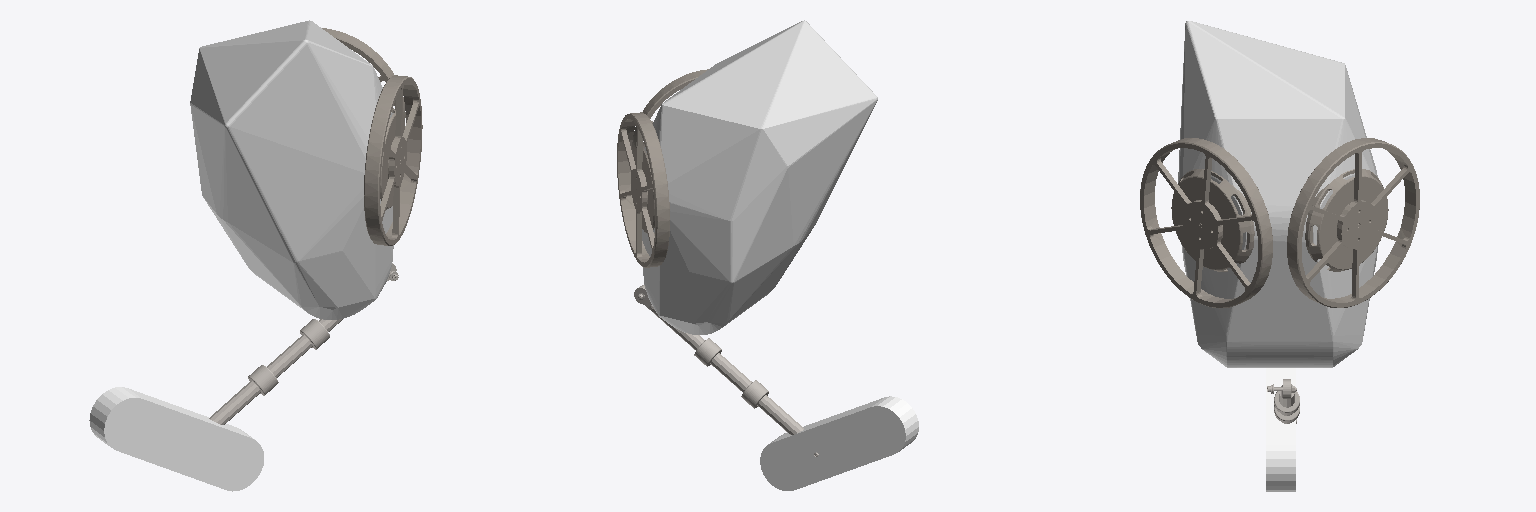
URDF robot description (hopper_rev04):
<?xml version="1.0" encoding="utf-8"?>
<!-- This URDF was automatically created by SolidWorks to URDF Exporter! Originally created by [author] ([email redacted]) 
     Commit Version: 1.5.1-0-g916b5db  Build Version: 1.5.7152.31018
     For more information, please see http://wiki.ros.org/sw_urdf_exporter -->
<robot
  name="hopper_rev04">
  <link
    name="base_link">
    <inertial>
      <origin
        xyz="-0.00563798638598889 -0.00067643856951418 0.0752602219607288"
        rpy="0 0 0" />
      <mass
        value="5.53646103481408" />
      <inertia
        ixx="0.00384290238676785"
        ixy="-4.19687319926848E-06"
        ixz="-6.20192772302655E-05"
        iyy="0.00563810128590434"
        iyz="5.31122977745691E-06"
        izz="0.00416003236316103" />
    </inertial>
    <visual>
      <origin
        xyz="0 0 0"
        rpy="0 0 0" />
      <geometry>
        <mesh
          filename="package://hopper_rev04/meshes/base_link.STL" />
      </geometry>
      <material
        name="">
        <color
          rgba="0.898039215686275 0.898039215686275 0.898039215686275 1" />
      </material>
    </visual>
    <collision>
      <origin
        xyz="0 0 0"
        rpy="0 0 0" />
      <geometry>
        <mesh
          filename="package://hopper_rev04/meshes/base_link.STL" />
      </geometry>
    </collision>
  </link>
  <link
    name="Link 0">
    <inertial>
      <origin
        xyz="0.012185125524421 0.0174262909662814 0.00112690524565407"
        rpy="0 0 0" />
      <mass
        value="0.256385541441528" />
      <inertia
        ixx="3.84650063102082E-05"
        ixy="1.53797848955375E-05"
        ixz="-8.48318848133077E-06"
        iyy="0.000172633746370829"
        iyz="1.08260082805317E-06"
        izz="0.00014882244480027" />
    </inertial>
    <visual>
      <origin
        xyz="0 0 0"
        rpy="0 0 0" />
      <geometry>
        <mesh
          filename="package://hopper_rev04/meshes/Link 0.STL" />
      </geometry>
      <material
        name="">
        <color
          rgba="0.898039215686275 0.898039215686275 0.898039215686275 1" />
      </material>
    </visual>
    <collision>
      <origin
        xyz="0 0 0"
        rpy="0 0 0" />
      <geometry>
        <mesh
          filename="package://hopper_rev04/meshes/Link 0.STL" />
      </geometry>
    </collision>
  </link>
  <joint
    name="Joint 0"
    type="revolute">
    <origin
      xyz="0 0 0"
      rpy="0 0.523598775599716 0" />
    <parent
      link="base_link" />
    <child
      link="Link 0" />
    <axis
      xyz="0 -1 0" />
    <limit
      lower="-3.14"
      upper="3.14"
      effort="0"
      velocity="0" />
  </joint>
  <link
    name="Link 1">
    <inertial>
      <origin
        xyz="0.133179166486321 0.00589603896195737 -1.77505057874505E-09"
        rpy="0 0 0" />
      <mass
        value="0.0631106253440014" />
      <inertia
        ixx="2.55536557854724E-06"
        ixy="6.97717913604158E-12"
        ixz="-1.43600164400608E-12"
        iyy="0.000104301672904657"
        iyz="7.22908134333838E-12"
        izz="0.000104300999439092" />
    </inertial>
    <visual>
      <origin
        xyz="0 0 0"
        rpy="0 0 0" />
      <geometry>
        <mesh
          filename="package://hopper_rev04/meshes/Link 1.STL" />
      </geometry>
      <material
        name="">
        <color
          rgba="0.776470588235294 0.756862745098039 0.737254901960784 1" />
      </material>
    </visual>
    <collision>
      <origin
        xyz="0 0 0"
        rpy="0 0 0" />
      <geometry>
        <mesh
          filename="package://hopper_rev04/meshes/Link 1.STL" />
      </geometry>
    </collision>
  </link>
  <joint
    name="Joint 1"
    type="revolute">
    <origin
      xyz="0.1 0 0"
      rpy="3.14159265358979 1.0768315178335 3.14159265358979" />
    <parent
      link="Link 0" />
    <child
      link="Link 1" />
    <axis
      xyz="0 -1 0" />
    <limit
      lower="-0.7597"
      upper="1.8295"
      effort="0"
      velocity="0" />
  </joint>
  <link
    name="Link 2">
    <inertial>
      <origin
        xyz="0.038903229236662 -0.0175829656415458 -0.000627148515337451"
        rpy="0 0 0" />
      <mass
        value="0.288845047026625" />
      <inertia
        ixx="3.46488303945488E-05"
        ixy="-3.25958703038219E-07"
        ixz="5.24928694319893E-06"
        iyy="0.000245584749831182"
        iyz="3.01080240170688E-08"
        izz="0.000226676365115679" />
    </inertial>
    <visual>
      <origin
        xyz="0 0 0"
        rpy="0 0 0" />
      <geometry>
        <mesh
          filename="package://hopper_rev04/meshes/Link 2.STL" />
      </geometry>
      <material
        name="">
        <color
          rgba="0.898039215686275 0.898039215686275 0.898039215686275 1" />
      </material>
    </visual>
    <collision>
      <origin
        xyz="0 0 0"
        rpy="0 0 0" />
      <geometry>
        <mesh
          filename="package://hopper_rev04/meshes/Link 2.STL" />
      </geometry>
    </collision>
  </link>
  <joint
    name="Joint 2"
    type="revolute">
    <origin
      xyz="0 0 0"
      rpy="3.14159265358979 0.553232742317986 3.14159265358979" />
    <parent
      link="base_link" />
    <child
      link="Link 2" />
    <axis
      xyz="0 -1 0" />
    <limit
      lower="-3.14"
      upper="3.14"
      effort="0"
      velocity="0" />
  </joint>
  <link
    name="Link 3">
    <inertial>
      <origin
        xyz="0.101438174462134 -0.00251020587757888 -0.0148532858062159"
        rpy="0 0 0" />
      <mass
        value="0.124857605850282" />
      <inertia
        ixx="1.60742534683083E-05"
        ixy="-5.54606504493174E-07"
        ixz="1.00368288088619E-06"
        iyy="0.000116506435228235"
        iyz="1.07130793494945E-07"
        izz="0.000112946754257471" />
    </inertial>
    <visual>
      <origin
        xyz="0 0 0"
        rpy="0 0 0" />
      <geometry>
        <mesh
          filename="package://hopper_rev04/meshes/Link 3.STL" />
      </geometry>
      <material
        name="">
        <color
          rgba="1 1 1 1" />
      </material>
    </visual>
    <collision>
      <origin
        xyz="0 0 0"
        rpy="0 0 0" />
      <geometry>
        <mesh
          filename="package://hopper_rev04/meshes/Link 3.STL" />
      </geometry>
    </collision>
  </link>
  <joint
    name="Joint 3"
    type="revolute">
    <origin
      xyz="0.270000000042219 0 0"
      rpy="-3.14159265358979 -1.07683151743819 3.14159265358979" />
    <parent
      link="Link 2" />
    <child
      link="Link 3" />
    <axis
      xyz="0 -1 0" />
    <limit
      lower="-1.8295"
      upper="0.7597"
      effort="0"
      velocity="0" />
  </joint>
  <link
    name="rw0">
    <inertial>
      <origin
        xyz="-0.0106867499463367 -7.59786659976225E-09 2.70428182624904E-09"
        rpy="0 0 0" />
      <mass
        value="0.715641175075331" />
      <inertia
        ixx="0.00312227321188979"
        ixy="-1.82809740652615E-12"
        ixz="1.21129033520584E-11"
        iyy="0.0015857069659752"
        iyz="7.43838571073003E-09"
        izz="0.00158570710797415" />
    </inertial>
    <visual>
      <origin
        xyz="0 0 0"
        rpy="0 0 0" />
      <geometry>
        <mesh
          filename="package://hopper_rev04/meshes/rw0.STL" />
      </geometry>
      <material
        name="">
        <color
          rgba="0.647058823529412 0.619607843137255 0.588235294117647 1" />
      </material>
    </visual>
    <collision>
      <origin
        xyz="0 0 0"
        rpy="0 0 0" />
      <geometry>
        <mesh
          filename="package://hopper_rev04/meshes/rw0.STL" />
      </geometry>
    </collision>
  </link>
  <joint
    name="joint_rw0"
    type="continuous">
    <origin
      xyz="0.0539522474045338 -0.0798869360369105 0.116"
      rpy="3.03065856040946 0 -0.785398163397448" />
    <parent
      link="base_link" />
    <child
      link="rw0" />
    <axis
      xyz="1 0 0" />
  </joint>
  <link
    name="rw1">
    <inertial>
      <origin
        xyz="-0.0106867499463733 7.59763008062464E-09 -2.70429836857211E-09"
        rpy="0 0 0" />
      <mass
        value="0.715641175076258" />
      <inertia
        ixx="0.00312227321188979"
        ixy="1.82797369905827E-12"
        ixz="-1.21129122035527E-11"
        iyy="0.00158570696597532"
        iyz="7.43838570552755E-09"
        izz="0.00158570710797428" />
    </inertial>
    <visual>
      <origin
        xyz="0 0 0"
        rpy="0 0 0" />
      <geometry>
        <mesh
          filename="package://hopper_rev04/meshes/rw1.STL" />
      </geometry>
      <material
        name="">
        <color
          rgba="0.647058823529412 0.619607843137255 0.588235294117647 1" />
      </material>
    </visual>
    <collision>
      <origin
        xyz="0 0 0"
        rpy="0 0 0" />
      <geometry>
        <mesh
          filename="package://hopper_rev04/meshes/rw1.STL" />
      </geometry>
    </collision>
  </link>
  <joint
    name="joint_rw1"
    type="continuous">
    <origin
      xyz="0.0539522474045338 0.0785617146494409 0.116"
      rpy="-0.0304329711040622 0 0.785398163397448" />
    <parent
      link="base_link" />
    <child
      link="rw1" />
    <axis
      xyz="-1 0 0" />
  </joint>
  <link
    name="rwz">
    <inertial>
      <origin
        xyz="-2.31585584042904E-16 -6.82787160144471E-15 -0.0143212590966127"
        rpy="0 0 0" />
      <mass
        value="0.480621066769277" />
      <inertia
        ixx="0.00034873599560601"
        ixy="-1.31810819317055E-14"
        ixz="-2.56270728099723E-20"
        iyy="0.000348735995605441"
        iyz="-1.07540225610664E-16"
        izz="0.000659111377573692" />
    </inertial>
    <visual>
      <origin
        xyz="0 0 0"
        rpy="0 0 0" />
      <geometry>
        <mesh
          filename="package://hopper_rev04/meshes/rwz.STL" />
      </geometry>
      <material
        name="">
        <color
          rgba="0.647058823529412 0.619607843137255 0.588235294117647 1" />
      </material>
    </visual>
    <collision>
      <origin
        xyz="0 0 0"
        rpy="0 0 0" />
      <geometry>
        <mesh
          filename="package://hopper_rev04/meshes/rwz.STL" />
      </geometry>
    </collision>
  </link>
  <joint
    name="joint_rwz"
    type="continuous">
    <origin
      xyz="-0.0666999999998561 -0.000662610693735013 0.101500000000095"
      rpy="0 0 -1.57079632679463" />
    <parent
      link="base_link" />
    <child
      link="rwz" />
    <axis
      xyz="0 0 1" />
  </joint>
</robot>

--- What the picture shows (computed from the rendered views, not written in the file) ---
3 views of the same robot in one strip: view 1: azimuth 30°, elevation 25°; view 2: azimuth 150°, elevation 25°; view 3: azimuth 270°, elevation 25° (orthographic).
Robot: hopper_rev04 — 8 links, 7 joints (4 revolute, 3 continuous); root link base_link; default pose: every joint at zero.
Links seen in each view (by area): view 1: base_link, Link 3, rw0, Link 1, rw1; view 2: base_link, Link 3, rw1, Link 1, rw0; view 3: base_link, rw0, rw1, Link 3, Link 1.
Boxes of the visible links, x1=… form: base_link: x1=190, y1=20, x2=393, y2=319; Link 3: x1=89, y1=387, x2=263, y2=491; rw0: x1=364, y1=75, x2=422, y2=245; Link 1: x1=209, y1=263, x2=398, y2=424; rw1: x1=322, y1=28, x2=405, y2=121; base_link: x1=642, y1=20, x2=877, y2=334; Link 3: x1=760, y1=396, x2=918, y2=490; rw1: x1=617, y1=112, x2=669, y2=267; Link 1: x1=634, y1=285, x2=818, y2=456; rw0: x1=632, y1=69, x2=708, y2=153; base_link: x1=1178, y1=21, x2=1378, y2=367; rw0: x1=1140, y1=138, x2=1272, y2=308; rw1: x1=1287, y1=138, x2=1419, y2=307; Link 3: x1=1266, y1=368, x2=1295, y2=491; Link 1: x1=1267, y1=379, x2=1299, y2=423.
Size in the robot's own frame: 0.3748 by 0.2808 by 0.5334 metres.
6 mesh visuals loaded from 8 distinct referenced files (6 binary STL); not drawn: 2 (reference not matched to a file when rendering).